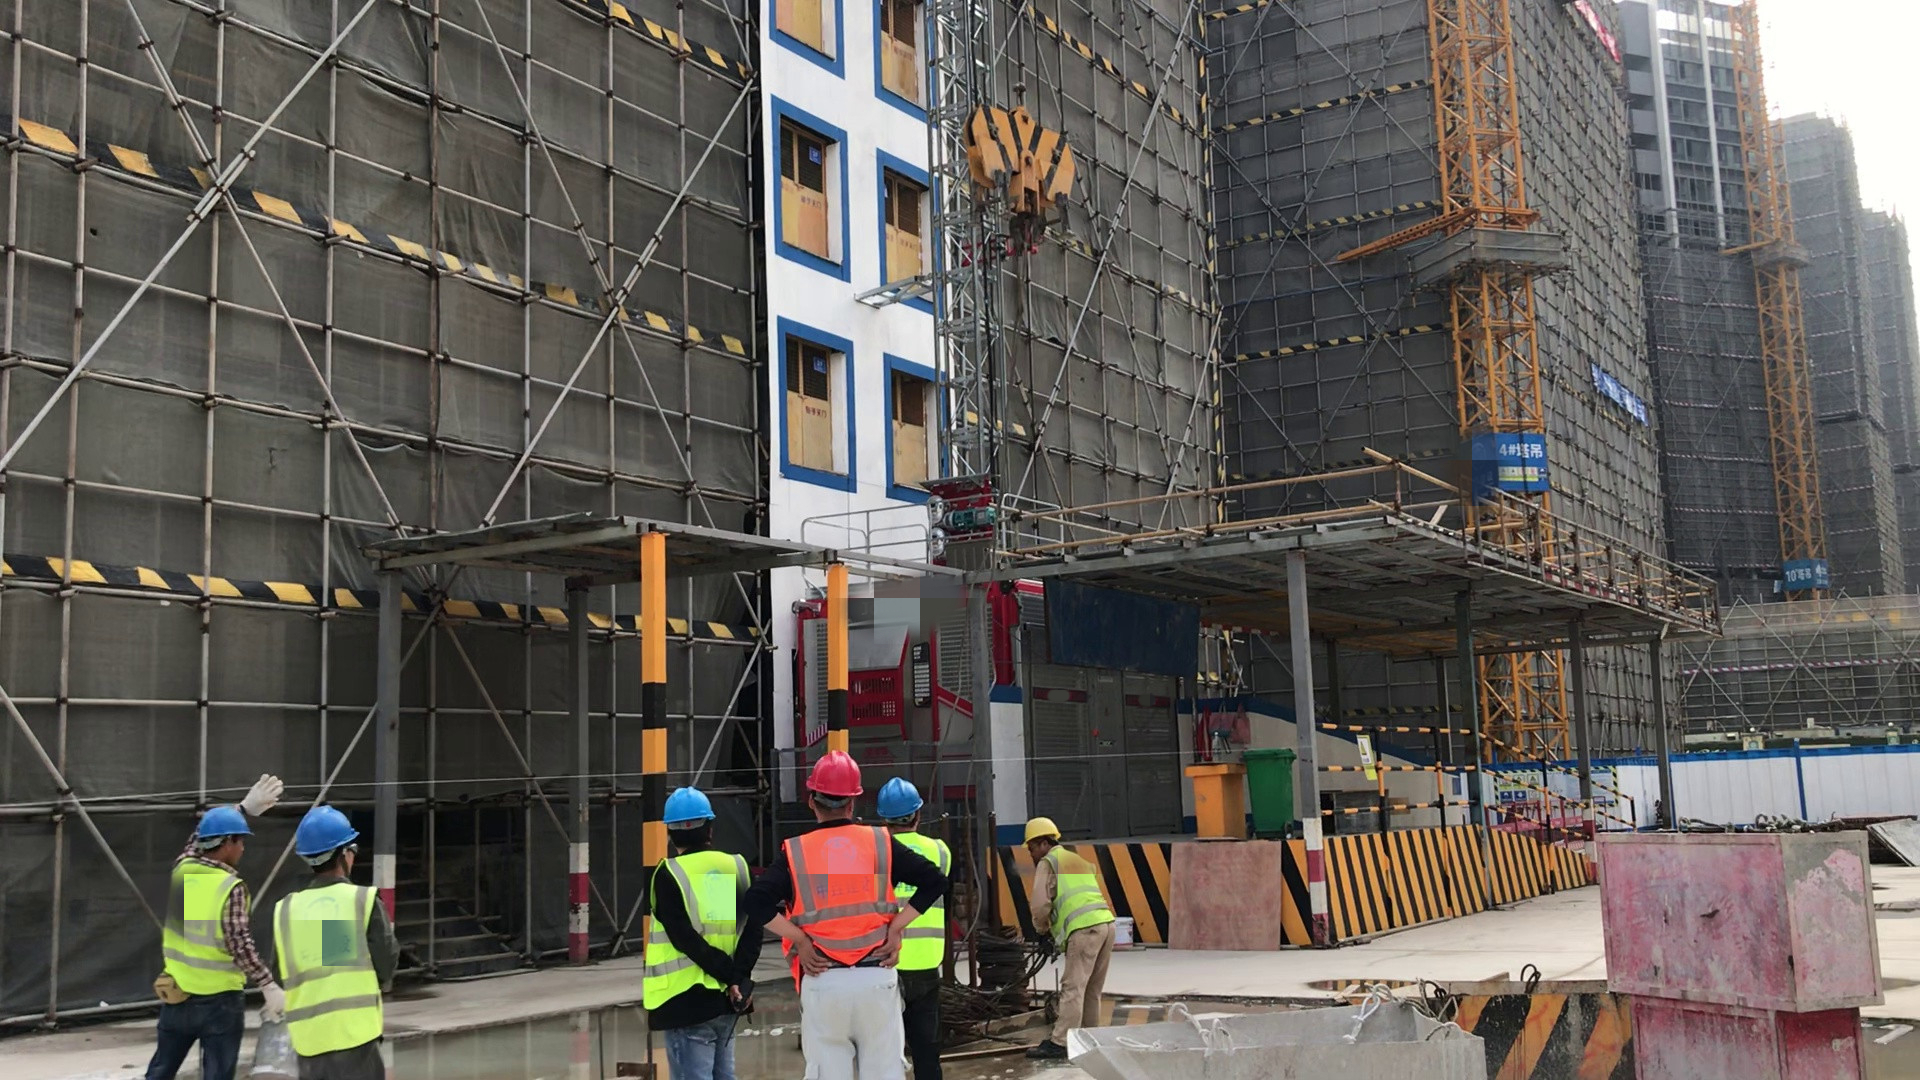fence: (1311, 704, 1650, 872)
helmet: (291, 807, 367, 859), (803, 748, 869, 802), (186, 802, 255, 848), (663, 784, 728, 829), (878, 778, 931, 826), (1019, 811, 1068, 848)
hook: (956, 89, 1075, 243)
hopper: (1054, 979, 1502, 1080), (1375, 970, 1659, 1080)
person: (761, 740, 903, 1080), (275, 805, 410, 1079), (640, 779, 760, 1080), (149, 793, 271, 1080), (1014, 812, 1127, 1080), (874, 776, 954, 1080)
slogan: (1581, 358, 1666, 438)
vest: (774, 828, 905, 983), (651, 845, 756, 1019), (278, 890, 383, 1058), (165, 858, 251, 1004), (886, 822, 955, 976), (1036, 849, 1117, 947)
